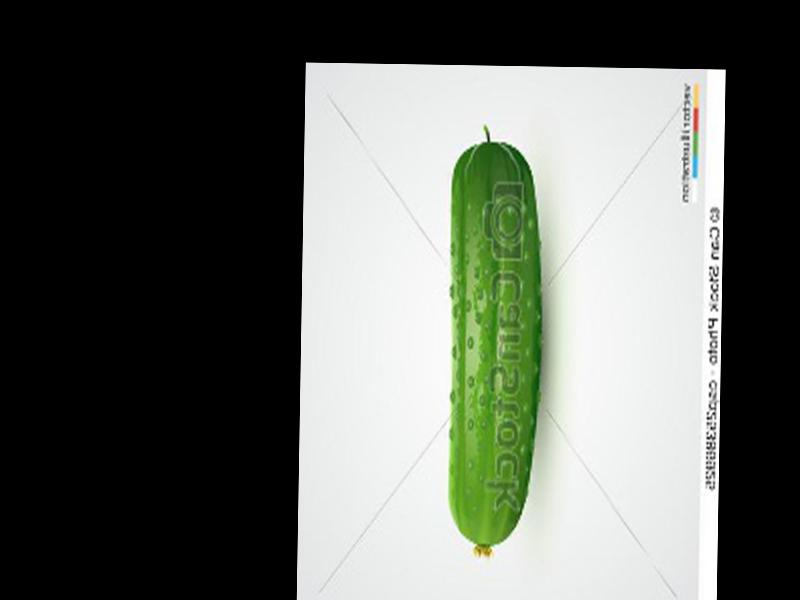Cucumber: (443, 124, 543, 560)
